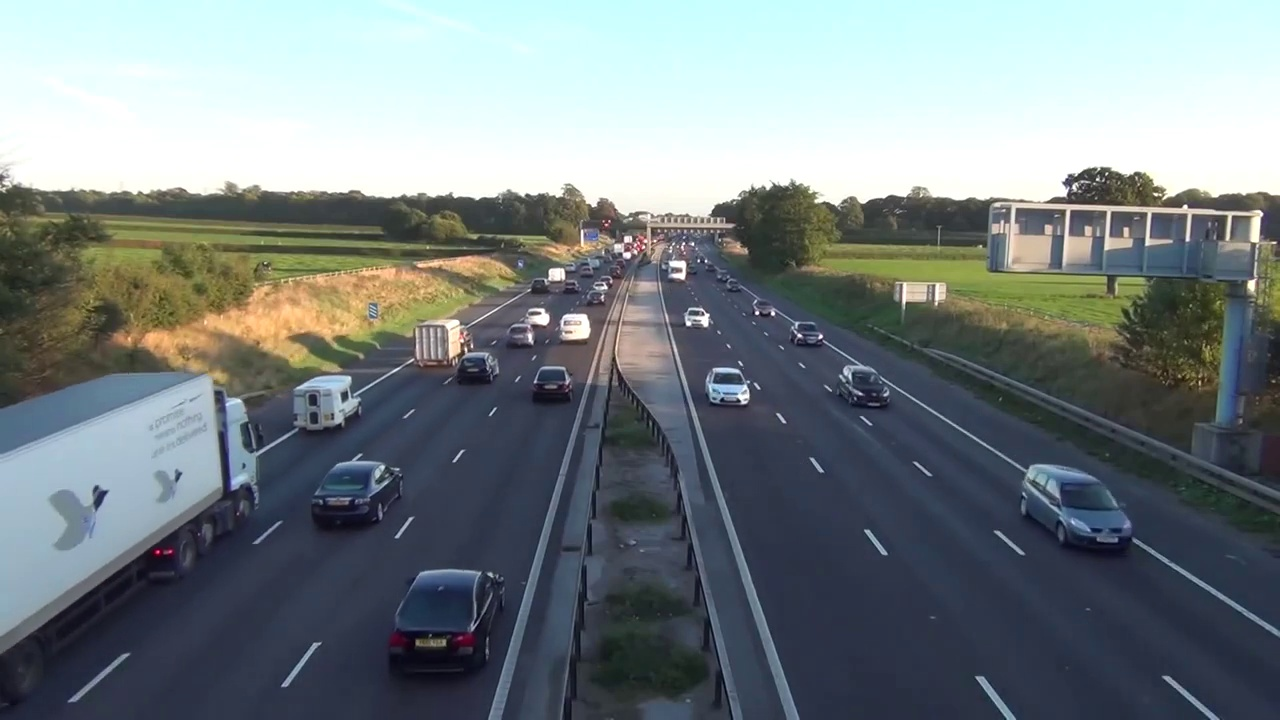bus: (389, 568, 505, 677), (1019, 463, 1133, 557), (310, 461, 404, 530), (293, 375, 363, 434), (835, 364, 893, 409), (415, 320, 472, 364), (703, 366, 752, 407), (531, 365, 574, 403), (458, 351, 500, 384), (789, 320, 825, 348), (560, 312, 591, 342), (504, 324, 536, 347), (683, 308, 712, 330), (524, 307, 549, 326), (752, 300, 777, 317)
car: (0, 370, 264, 701)
